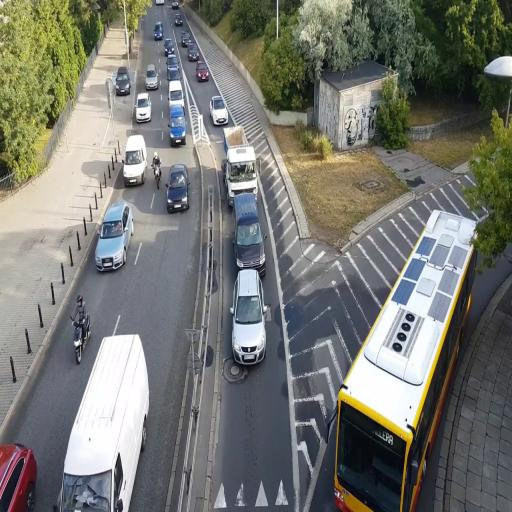vehicle: (333, 182, 483, 508), (58, 330, 150, 510), (226, 143, 266, 275), (231, 268, 268, 366), (232, 190, 266, 274), (94, 201, 134, 272), (94, 202, 134, 273), (224, 125, 258, 204), (123, 134, 147, 187), (166, 163, 189, 211), (169, 105, 186, 147), (209, 94, 230, 126), (134, 95, 152, 123), (114, 67, 130, 96), (145, 66, 159, 90), (196, 64, 210, 84)
